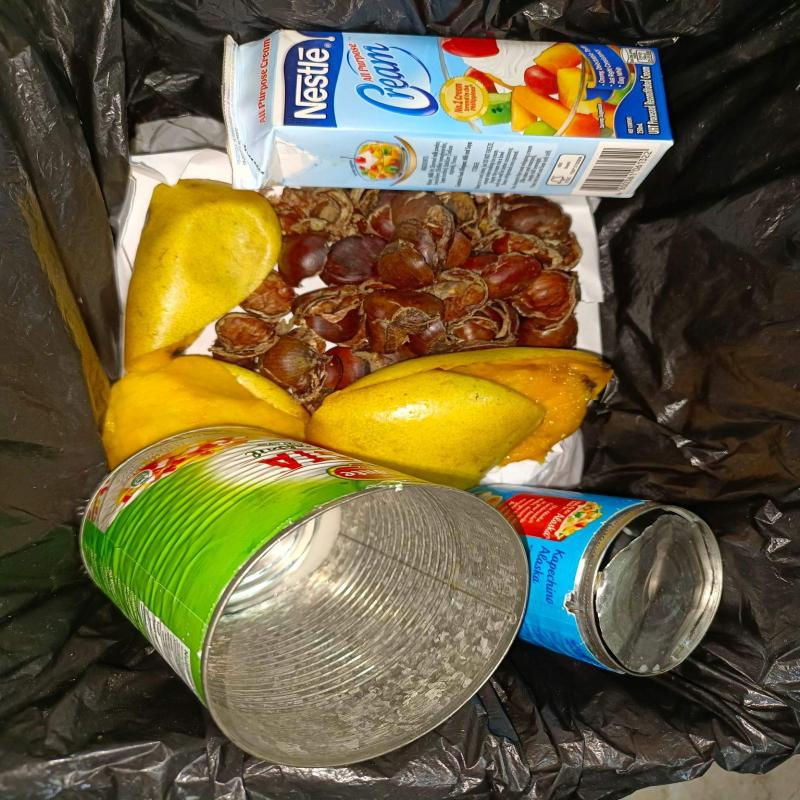aluminum: (78, 425, 531, 770), (468, 484, 724, 681)
fruit peels: (209, 187, 584, 414), (305, 348, 614, 492), (122, 179, 283, 376), (101, 352, 311, 471)
uht carton: (219, 30, 673, 200)
